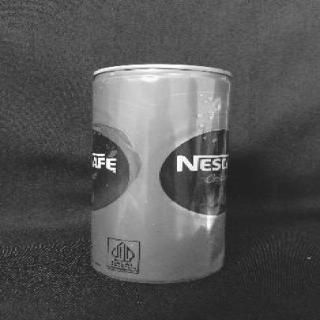alumunium_can: (90, 64, 232, 284)
